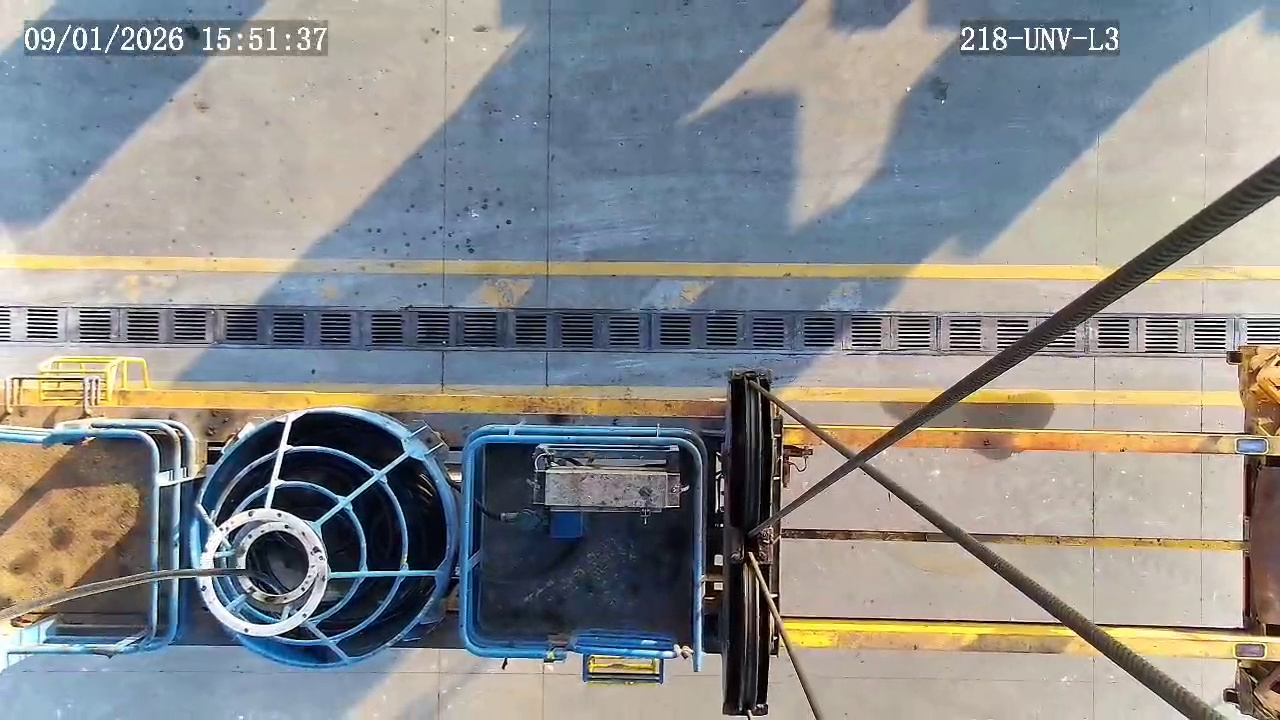right: (196, 507, 329, 637)
